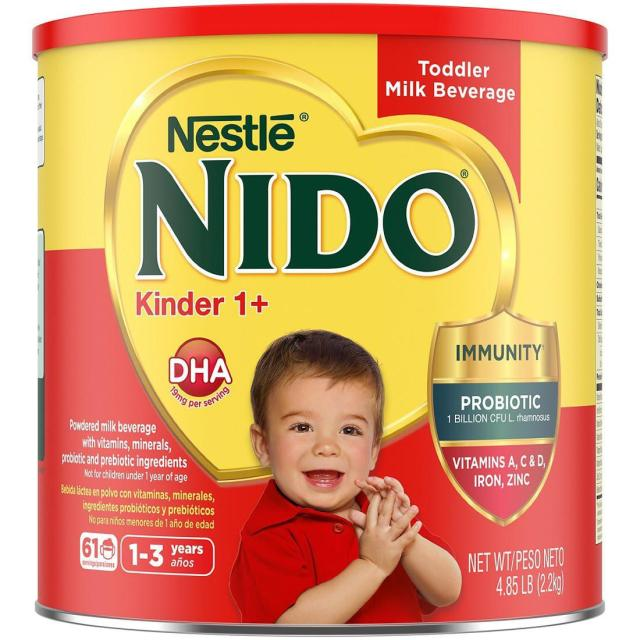formula-milk: (50, 17, 607, 607)
